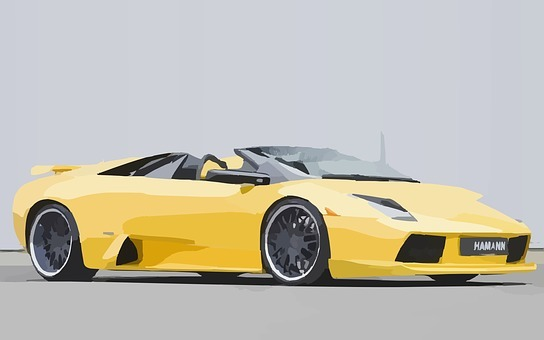car: (9, 132, 543, 287)
